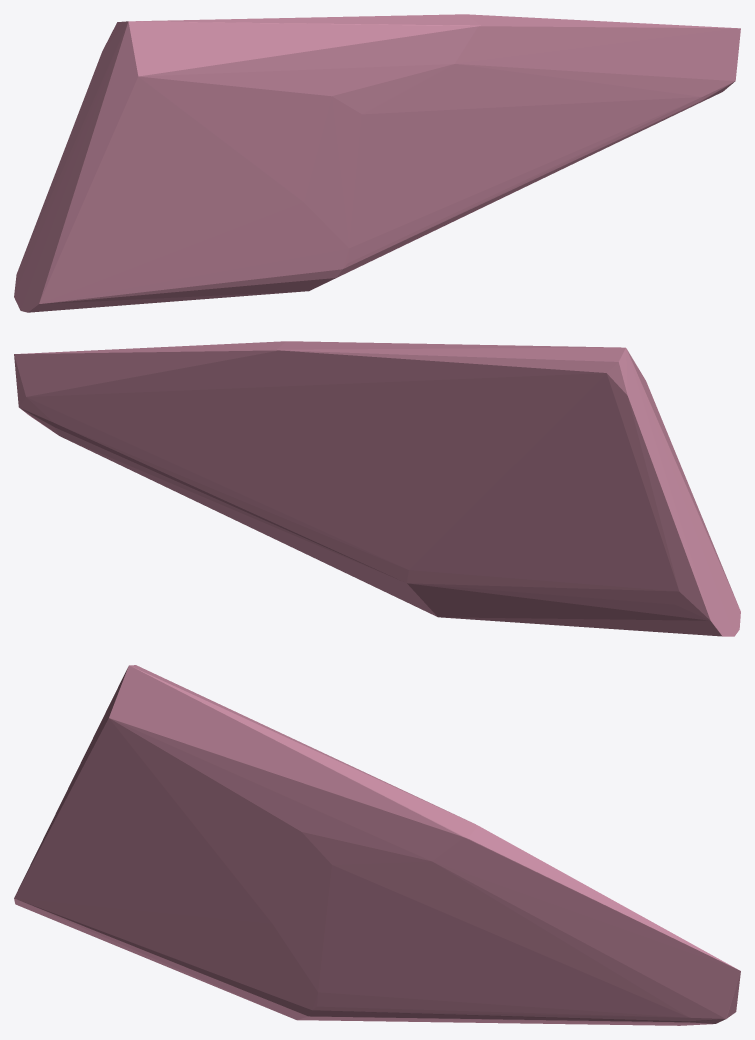
The model's file is powerTool_cutting_tool_a01.glb.
3 renders of one model, top to bottom at view 1: azimuth 30°, elevation 25°; view 2: azimuth 150°, elevation 25°; view 3: azimuth 330°, elevation 25°, orthographic.
Visible parts, largest first — view 1: geometry_0; view 2: geometry_0; view 3: geometry_0.
Part boxes in pixels (x1,y1,x2,y2): geometry_0: (14, 14, 740, 312); geometry_0: (14, 341, 740, 636); geometry_0: (14, 665, 740, 1025).
Bounding box in the file's own units: 0.4779 × 0.195 × 0.0359.
